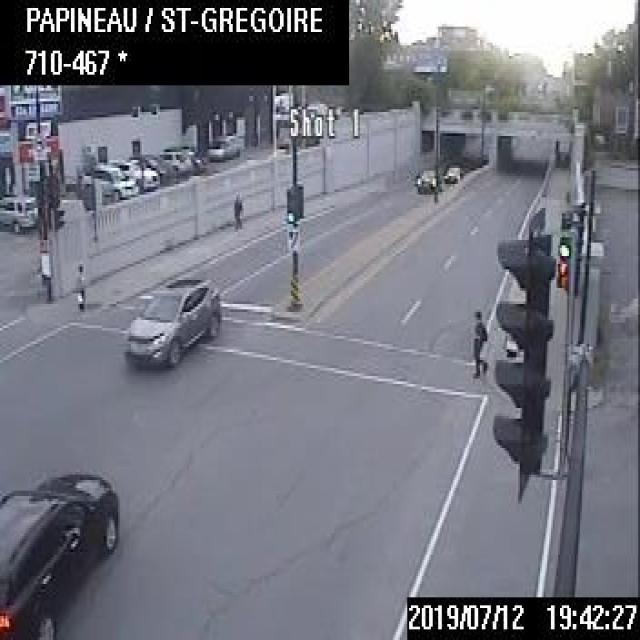pedestrian: (471, 310, 487, 374), (71, 256, 85, 309), (231, 189, 242, 232)
vehicle: (0, 467, 120, 637), (124, 272, 218, 365), (78, 158, 140, 206), (111, 157, 157, 192), (0, 190, 36, 228), (205, 129, 247, 160), (136, 152, 174, 185), (156, 146, 192, 176), (414, 165, 439, 192), (183, 148, 203, 171), (444, 163, 464, 181)
